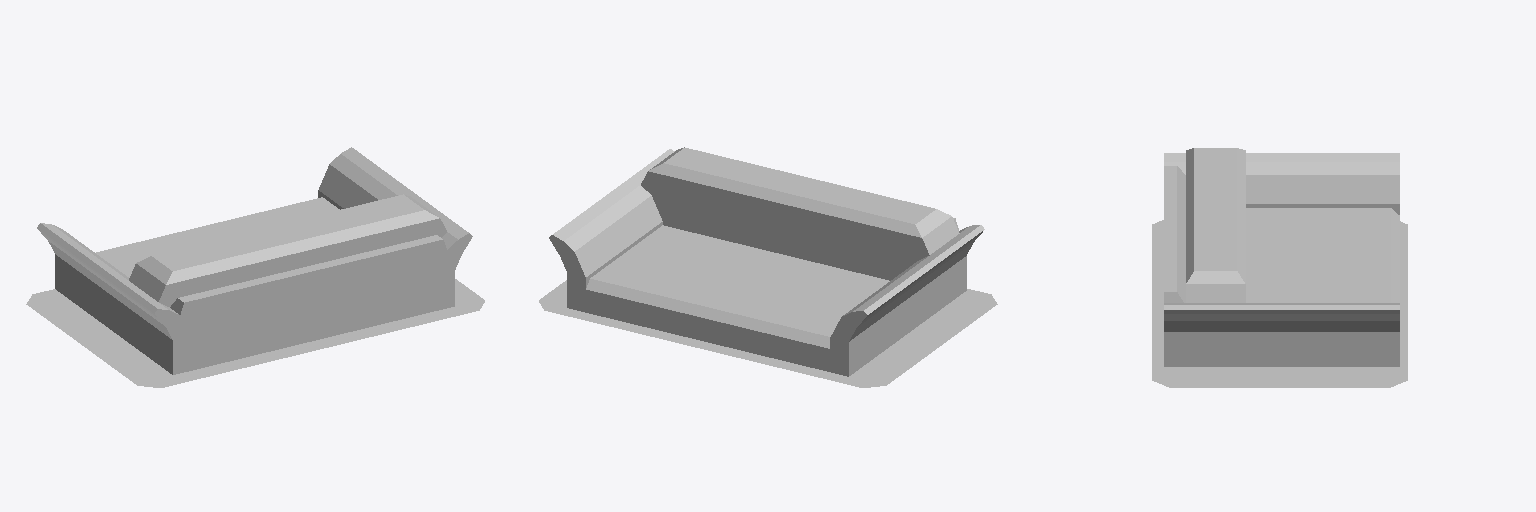
The model's file is Small Sofa.obj.
3 renders of one model, left to right at view 1: azimuth 30°, elevation 25°; view 2: azimuth 150°, elevation 25°; view 3: azimuth 270°, elevation 25°, orthographic.
Visible parts, largest first — view 1: polygon1, polygon0, polygon2; view 2: polygon0, polygon1, polygon2; view 3: polygon1, polygon0, polygon2.
Part boxes in pixels (bbox=[...]): polygon1: bbox=[37, 147, 472, 374]; polygon0: bbox=[96, 194, 446, 306]; polygon2: bbox=[26, 279, 484, 387]; polygon0: bbox=[586, 147, 959, 371]; polygon1: bbox=[549, 149, 984, 376]; polygon2: bbox=[539, 280, 997, 387]; polygon1: bbox=[1164, 153, 1399, 366]; polygon0: bbox=[1186, 148, 1399, 302]; polygon2: bbox=[1152, 220, 1407, 387].
Bounding box in the file's own units: 47 × 12 × 30.